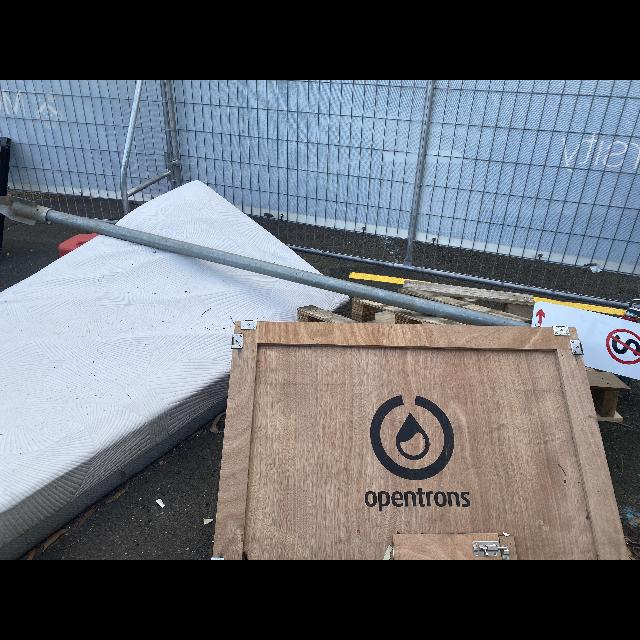Ferrous Metal: (531, 301, 639, 380), (472, 541, 510, 556), (569, 339, 583, 355), (231, 333, 243, 348), (240, 320, 257, 330), (553, 327, 570, 336)
Galvanized Steel: (0, 195, 531, 326), (285, 244, 640, 309), (120, 80, 182, 216), (404, 81, 435, 265), (84, 217, 119, 224)
